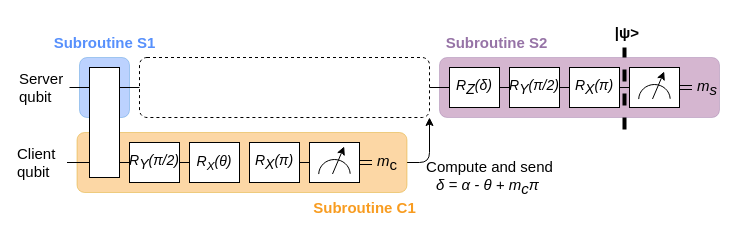
This 737x239 diagram has some shape labels left out. Here are the shapes that lost their labels. From the top down, the centre of each, then its label:
At [284,87]: "Wait for δ".
At [104,122]: "Entangle (Φ + )".
